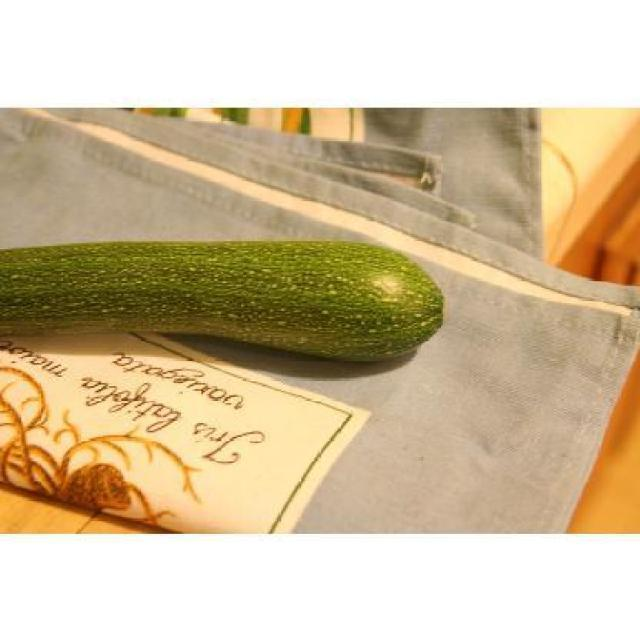cucumber: (26, 222, 429, 364)
